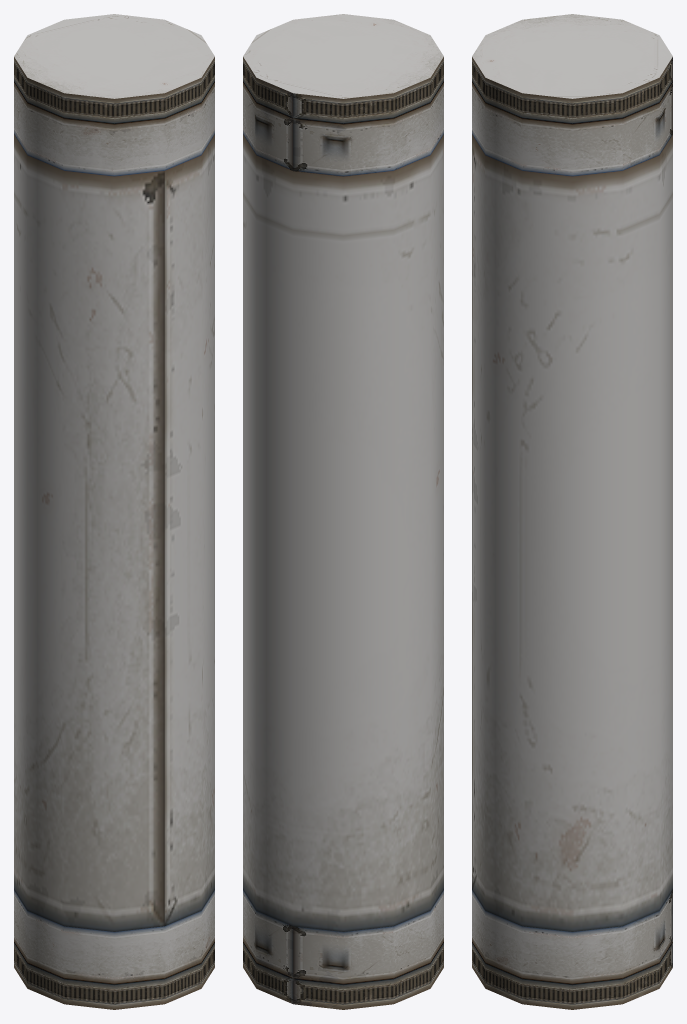
Rendered from scifi_pipe_medium_2.FBX.
3 renders of one model, left to right at view 1: azimuth 30°, elevation 25°; view 2: azimuth 150°, elevation 25°; view 3: azimuth 270°, elevation 25°, orthographic.
Parts seen in each view (by area): view 1: Cylinder012; view 2: Cylinder012; view 3: Cylinder012.
Boxes of the visible parts, x1,y1,x2,y2 form: Cylinder012: (14,14,214,1009); Cylinder012: (243,14,443,1009); Cylinder012: (472,14,672,1009).
Bounding box in the file's own units: 50.8 × 254 × 50.8.
